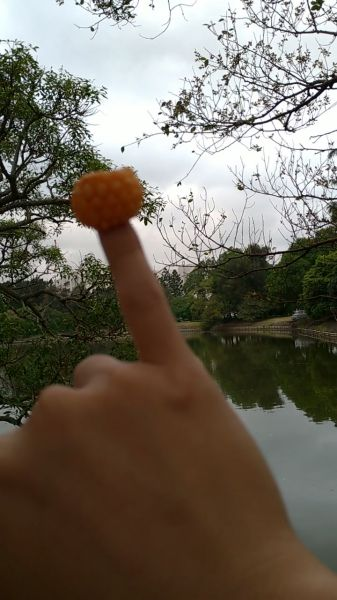eggs: (69, 167, 146, 229)
